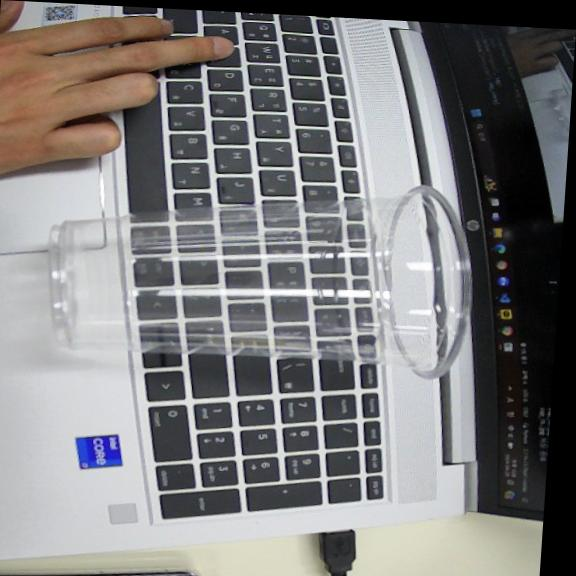Plastik: (50, 187, 468, 378)
